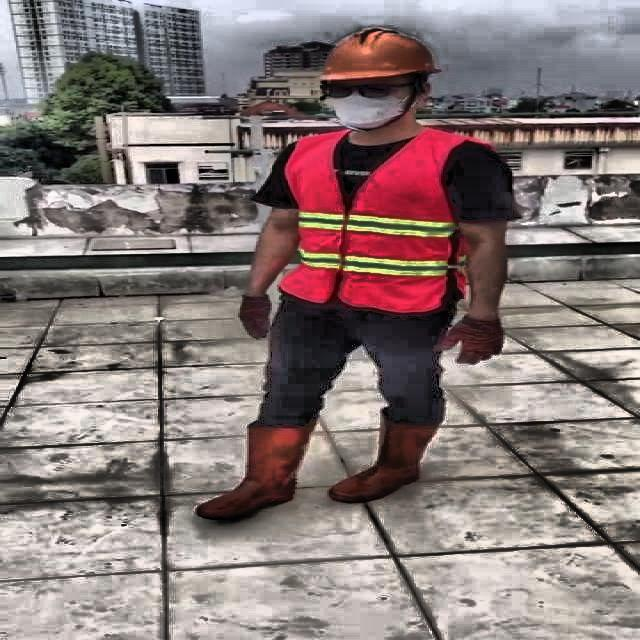safety_jacket: (284, 129, 462, 312)
